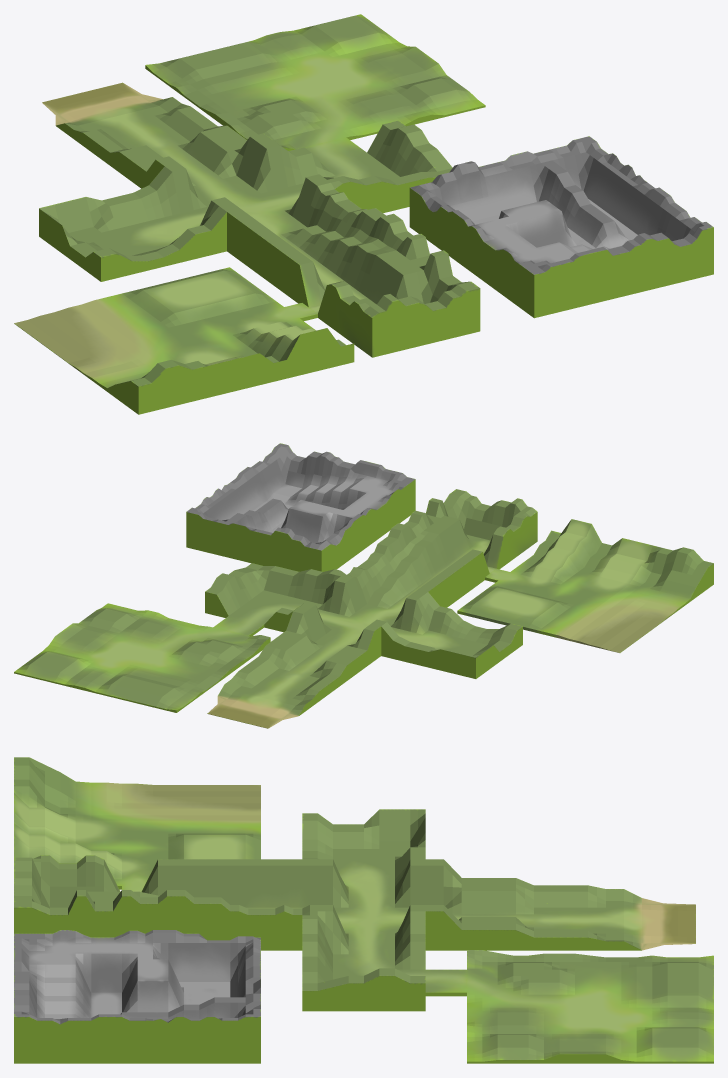
File: Map.fbx
3 views of the same model, one above another, from view 1: azimuth 30°, elevation 25°; view 2: azimuth 150°, elevation 25°; view 3: azimuth 270°, elevation 25° (orthographic). The views are drawn at different scales.
Parts seen in each view (by area): view 1: Map; view 2: Map; view 3: Map.
Part boxes in pixels (x1=…): Map: x1=14, y1=14, x2=713, y2=414; Map: x1=14, y1=443, x2=713, y2=728; Map: x1=14, y1=757, x2=713, y2=1063.
Size of the model in its own units: 16000 by 1450 by 17000.
